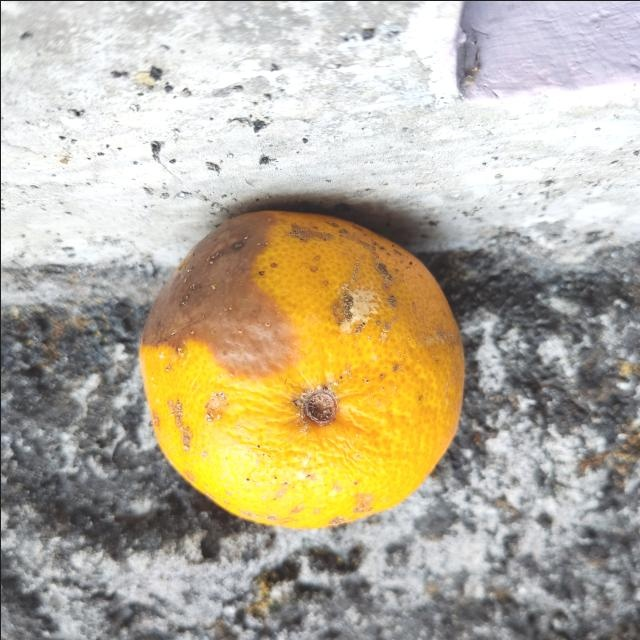agrume: (138, 206, 466, 532)
